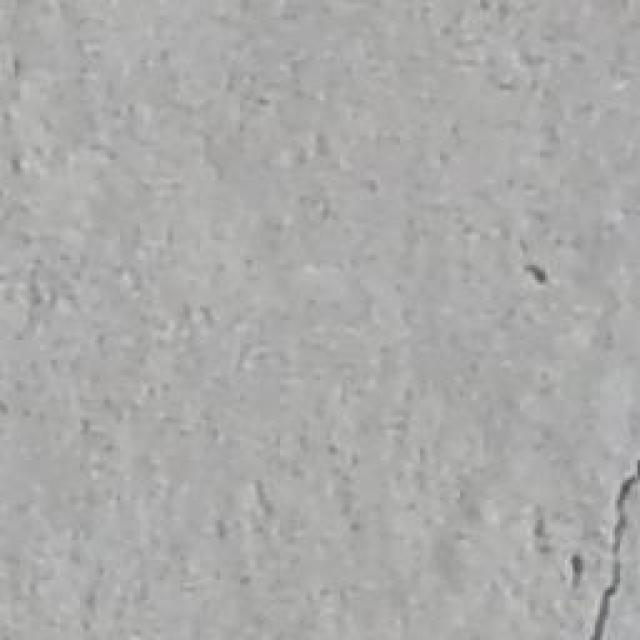concrete-crack: (583, 456, 637, 640)
